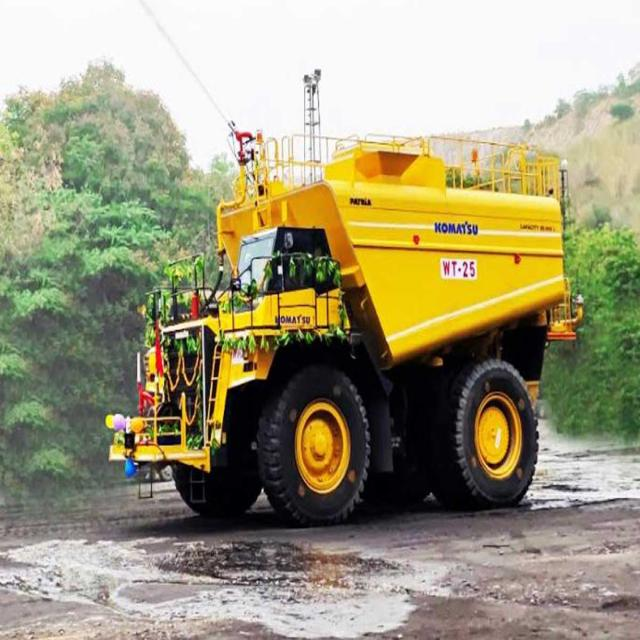dump_truck: (125, 135, 582, 520)
